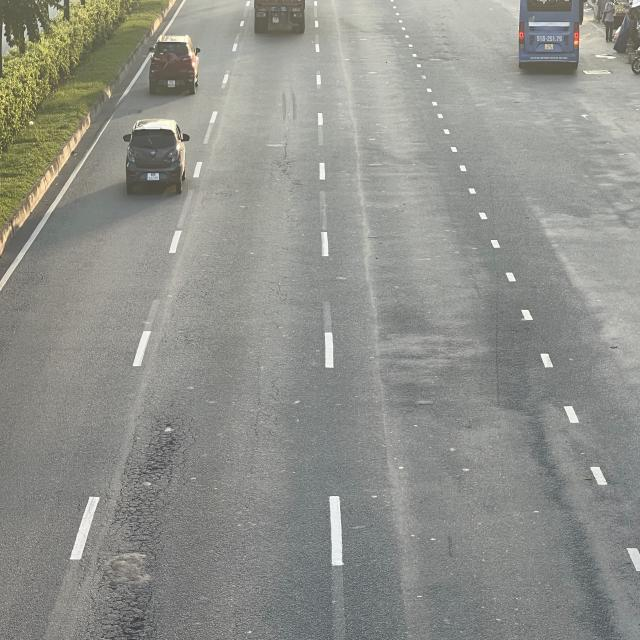car: (122, 118, 188, 192), (152, 36, 204, 96)
coach: (518, 0, 582, 69)
